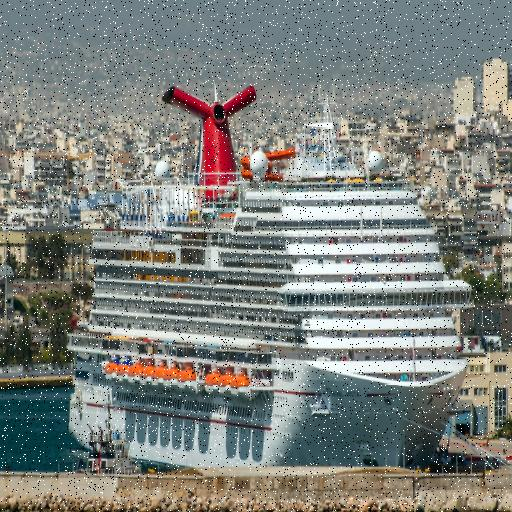cruises: (64, 85, 475, 482)
